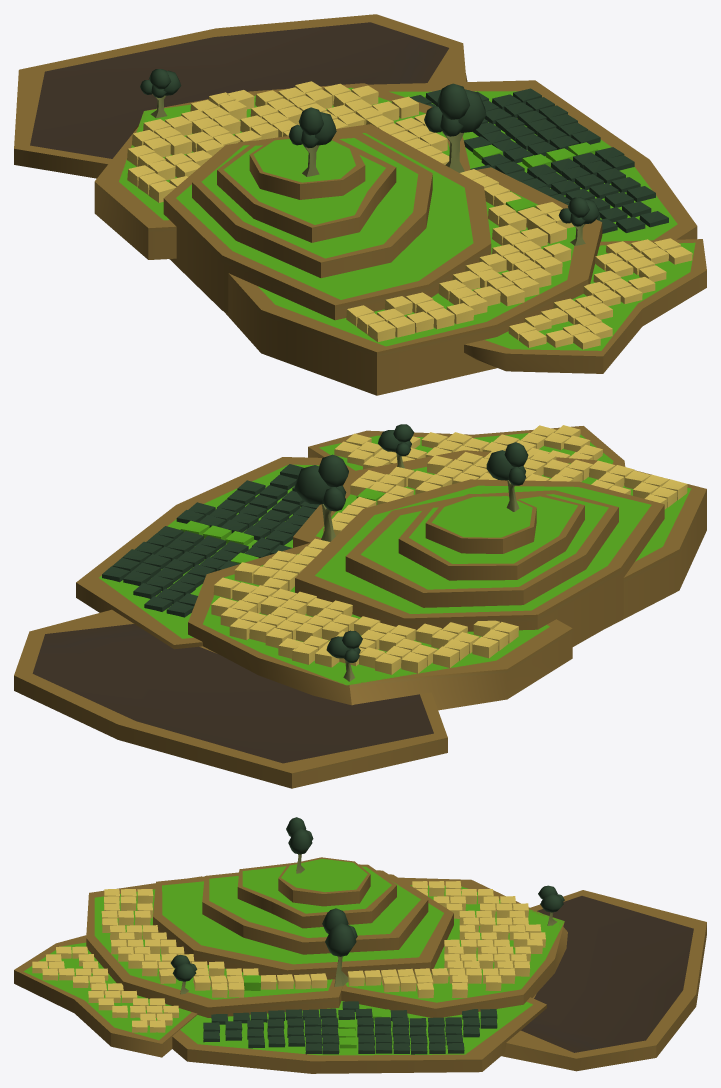
The model's file is sawah_terasering.glb.
3 renders of one model, top to bottom at view 1: azimuth 30°, elevation 25°; view 2: azimuth 150°, elevation 25°; view 3: azimuth 270°, elevation 25°, orthographic. The views are drawn at different scales.
Visible parts, largest first — view 1: Rice Field; view 2: Rice Field; view 3: Rice Field.
Part boxes in pixels (left/top/right/bottom): Rice Field: left=14, top=14, right=706, bottom=395; Rice Field: left=14, top=424, right=706, bottom=788; Rice Field: left=14, top=817, right=706, bottom=1073.
Size of the model in its own units: 16.33 by 5.89 by 27.36.
1 material, 1 textured.
